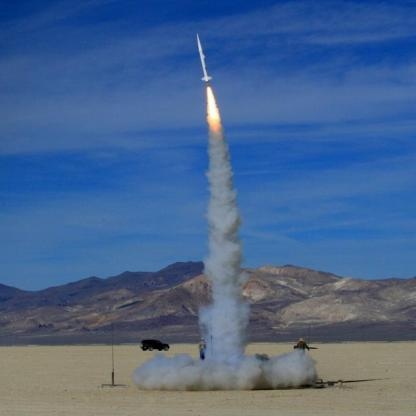MIL_TBM: (194, 28, 215, 90)
